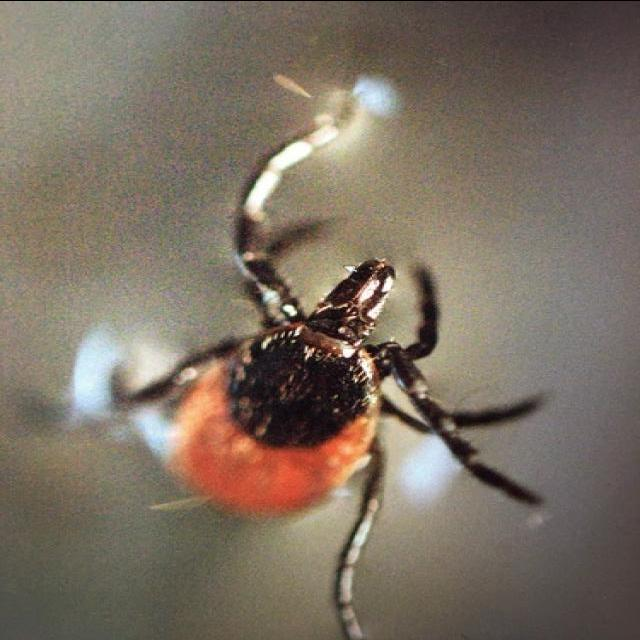Ixodes Ricinus-F: (111, 90, 546, 640)
